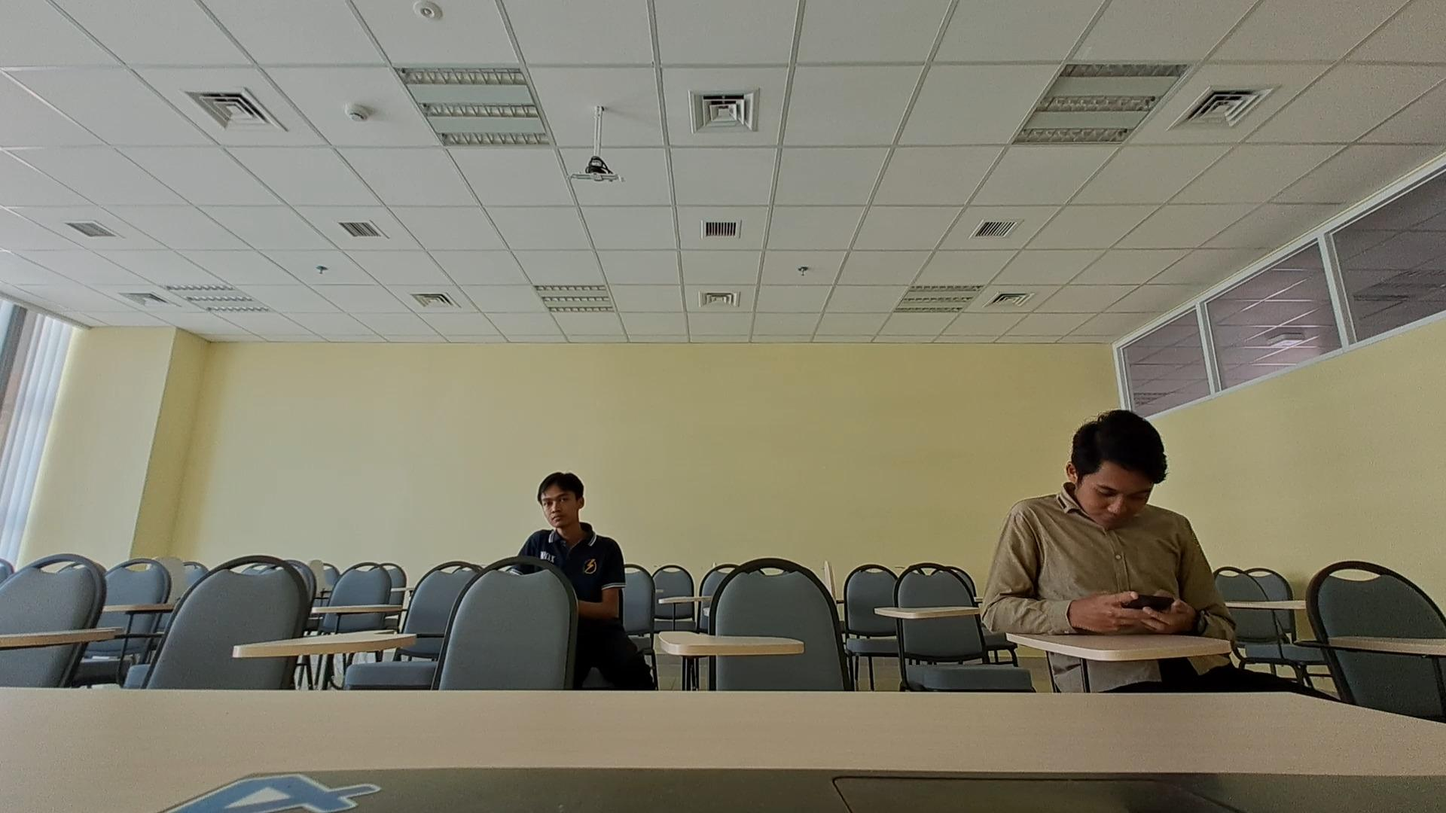phone: (979, 408, 1233, 642)
study: (514, 467, 625, 612)
